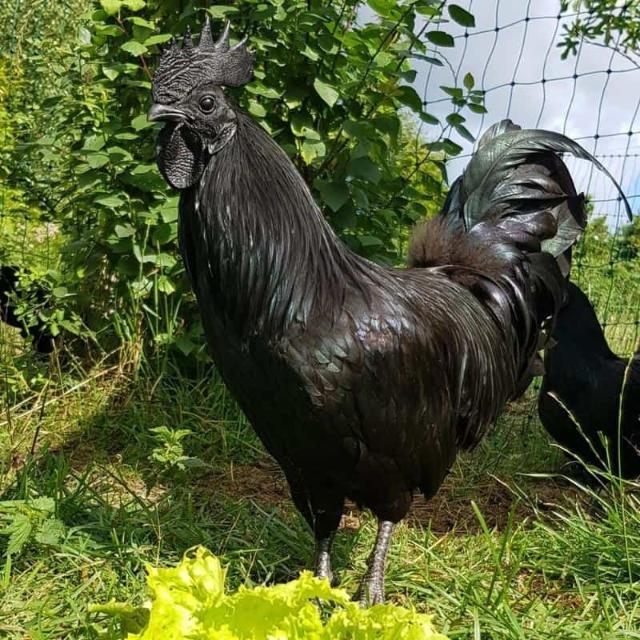Chicken: (145, 13, 635, 602)
